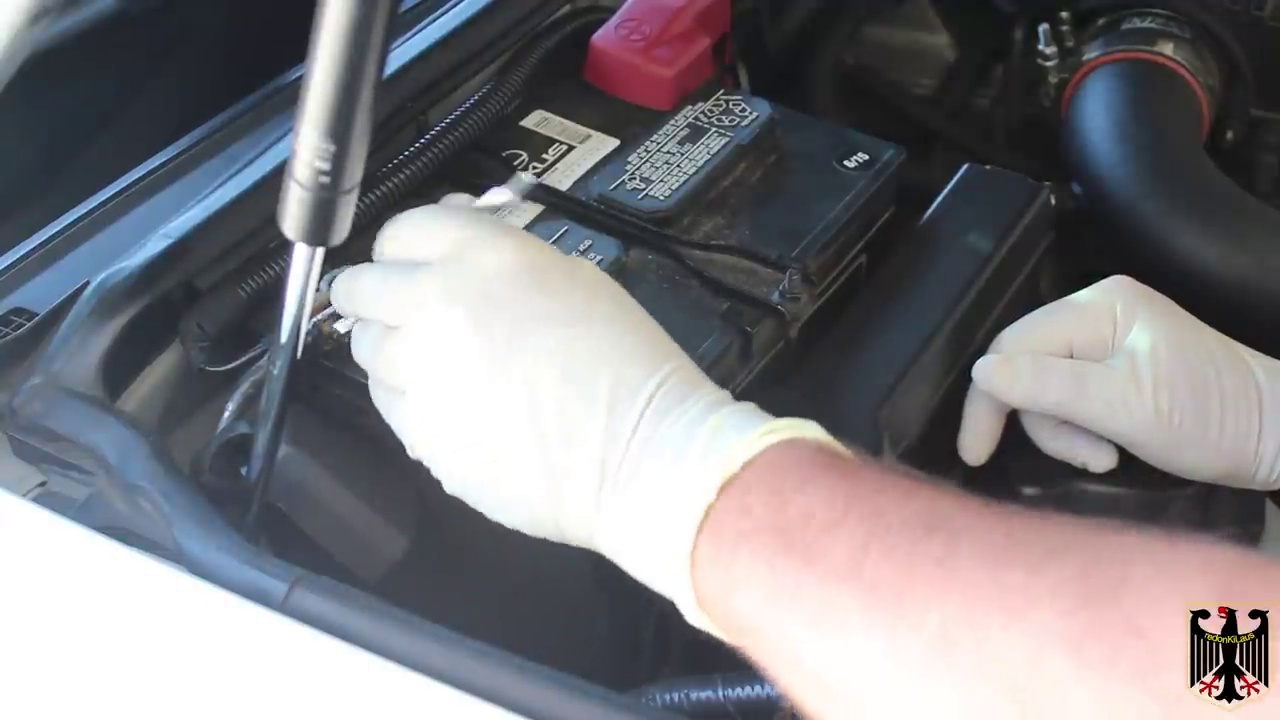battery: (304, 21, 905, 438)
pos_connected: (575, 8, 752, 119)
